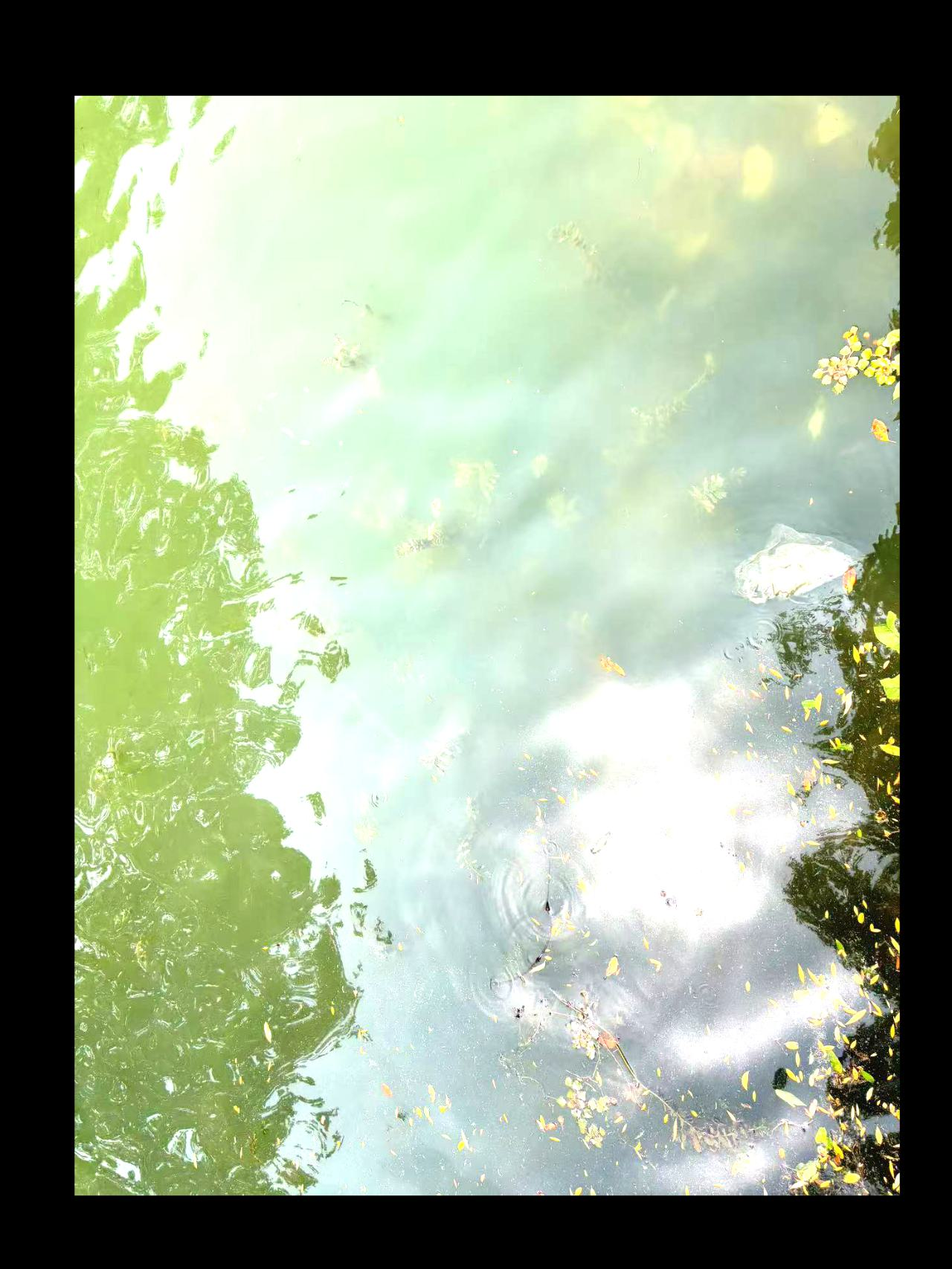Plastic wastes: (730, 532, 865, 601)
